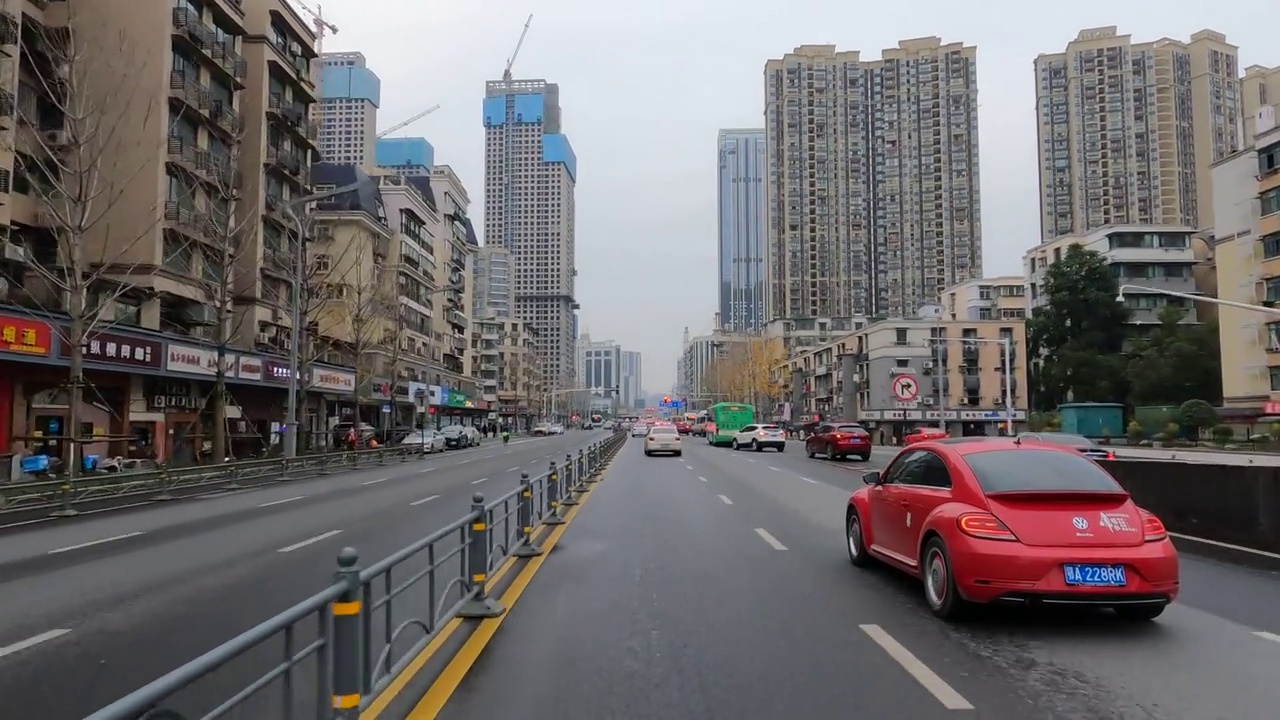lane: (359, 518, 529, 720), (856, 622, 975, 710), (1, 622, 75, 656), (278, 528, 343, 552), (748, 526, 792, 554), (406, 491, 438, 507), (716, 490, 734, 508)
